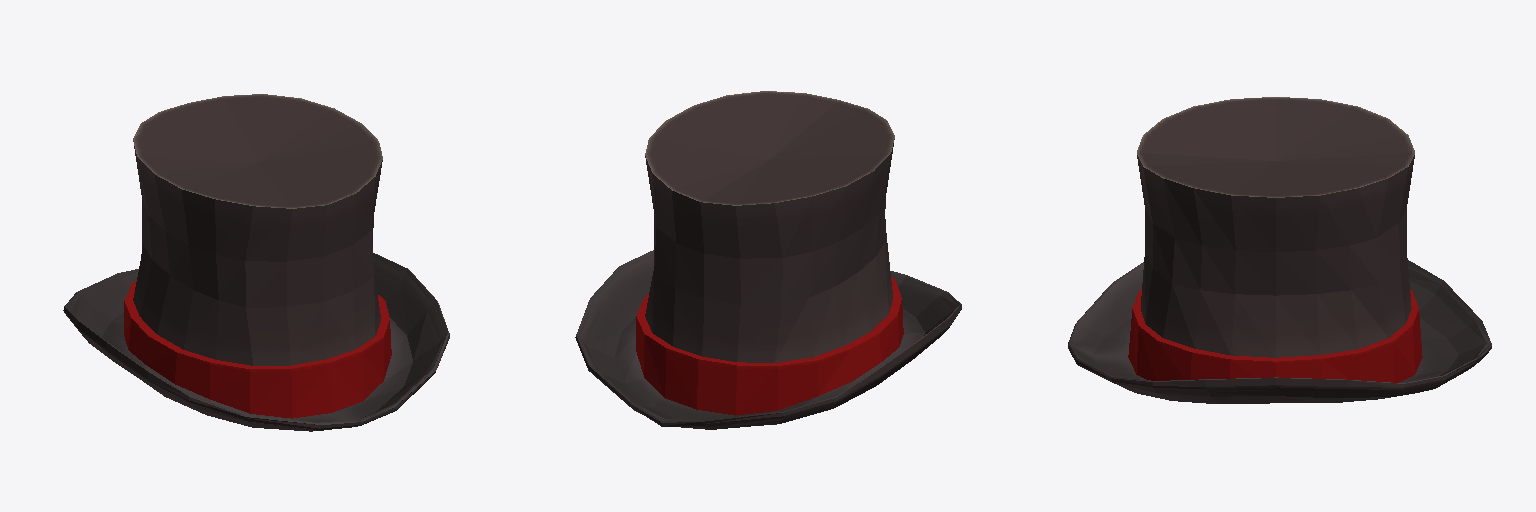
3 views of the same model, side by side, from view 1: azimuth 30°, elevation 25°; view 2: azimuth 150°, elevation 25°; view 3: azimuth 270°, elevation 25° (orthographic).
Parts seen in each view (by area): view 1: TopHat3:pCylinder3; view 2: TopHat3:pCylinder3; view 3: TopHat3:pCylinder3.
Part boxes in pixels (x1,y1,x2,y2): TopHat3:pCylinder3: (63, 94, 449, 431); TopHat3:pCylinder3: (575, 91, 961, 429); TopHat3:pCylinder3: (1068, 97, 1491, 403).
Bounding box in the file's own units: 6.79 × 4.64 × 8.22.
1 materials, 1 textured.